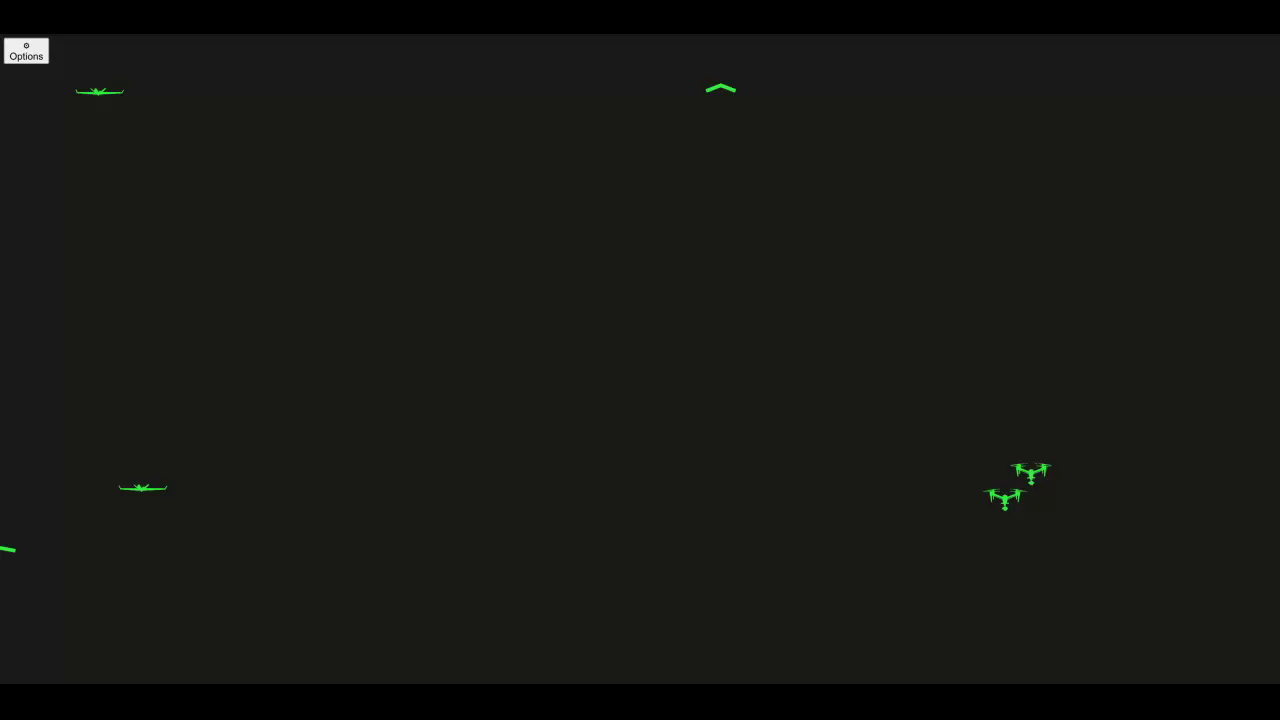Bird: (693, 67, 748, 105)
Drone: (67, 67, 134, 107), (110, 473, 174, 511)
Quadcopter: (977, 484, 1029, 521), (1008, 447, 1050, 486)
